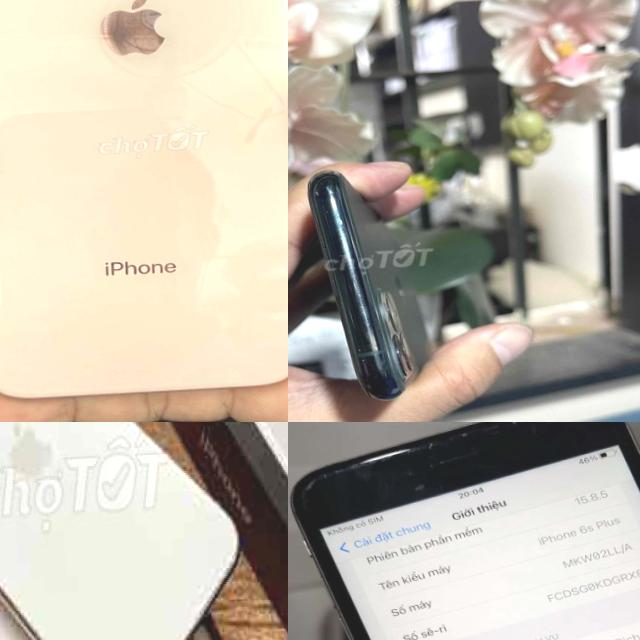scratch: (288, 422, 639, 515), (356, 341, 416, 400)
